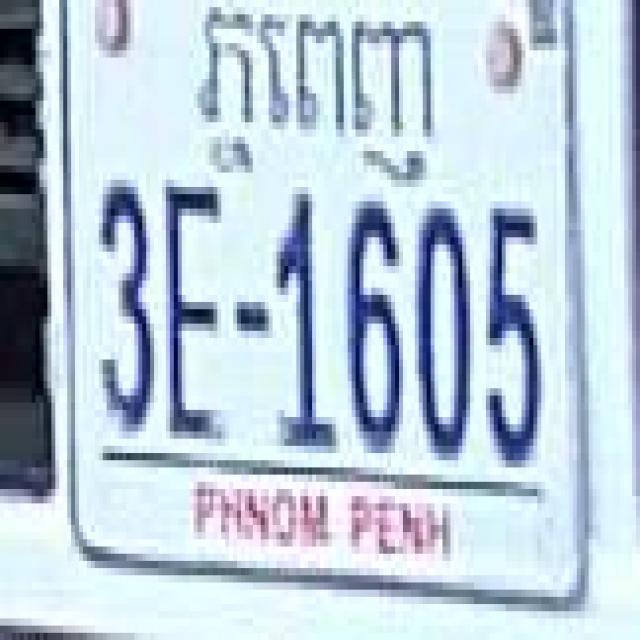Phnom_Penh: (202, 8, 438, 178)
